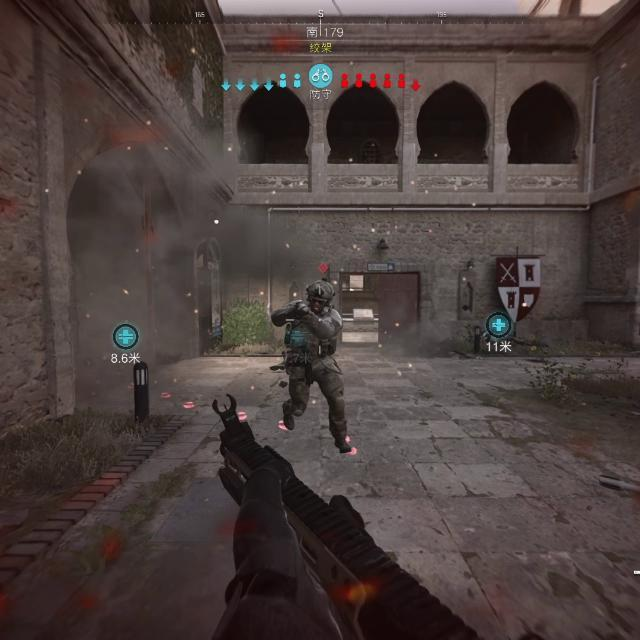MW2_body: (272, 262, 353, 455)
